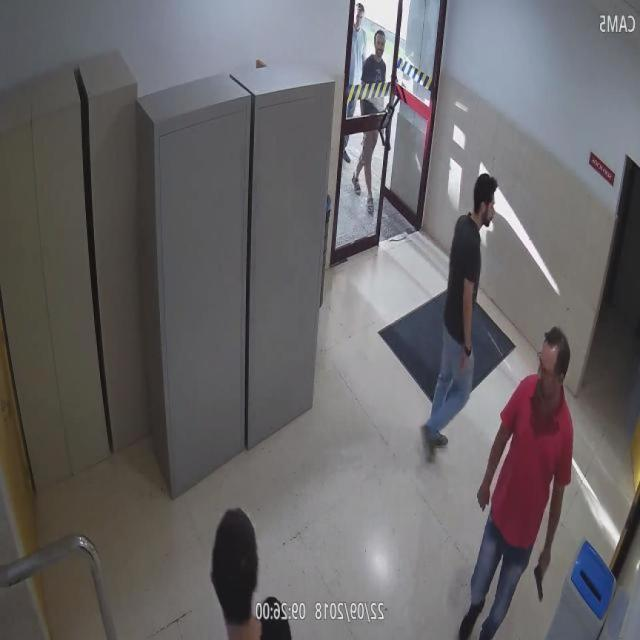pistol: (532, 548, 552, 602)
